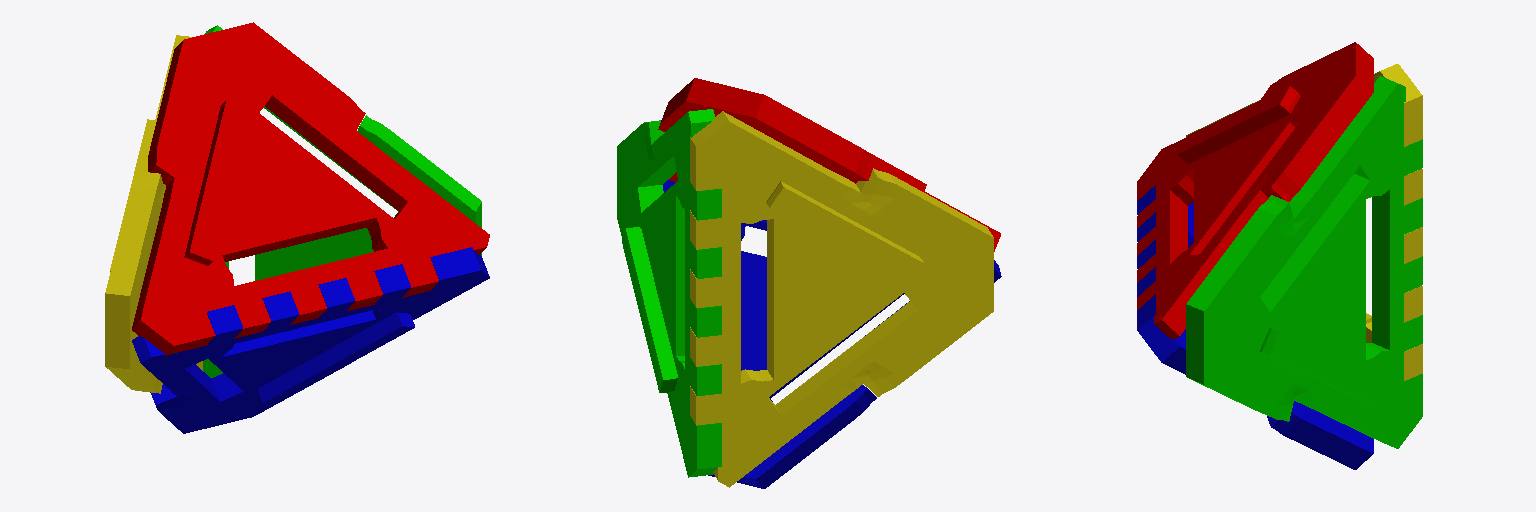
The model's file is bamboolasercut.obj.
3 views of the same model, side by side, from view 1: azimuth 30°, elevation 25°; view 2: azimuth 150°, elevation 25°; view 3: azimuth 270°, elevation 25° (orthographic).
Visible parts, largest first — view 1: Cube.004, Cube.005, Cube.001_Cube.006, Cube.003_Cube.007; view 2: Cube.001_Cube.006, Cube.003_Cube.007, Cube.004, Cube.005; view 3: Cube.003_Cube.007, Cube.004, Cube.005, Cube.001_Cube.006.
Part boxes in pixels (left/top/right/bottom): Cube.004: left=132, top=22, right=489, bottom=355; Cube.005: left=132, top=247, right=489, bottom=433; Cube.001_Cube.006: left=105, top=35, right=202, bottom=393; Cube.003_Cube.007: left=203, top=25, right=481, bottom=377; Cube.001_Cube.006: left=690, top=111, right=993, bottom=487; Cube.003_Cube.007: left=617, top=109, right=721, bottom=477; Cube.004: left=658, top=78, right=1000, bottom=251; Cube.005: left=663, top=180, right=1001, bottom=488; Cube.003_Cube.007: left=1186, top=76, right=1422, bottom=448; Cube.004: left=1137, top=42, right=1373, bottom=338; Cube.005: left=1137, top=185, right=1373, bottom=469; Cube.001_Cube.006: left=1186, top=64, right=1422, bottom=380.
Bounding box in the file's own units: 3.04 × 3.04 × 1.99.